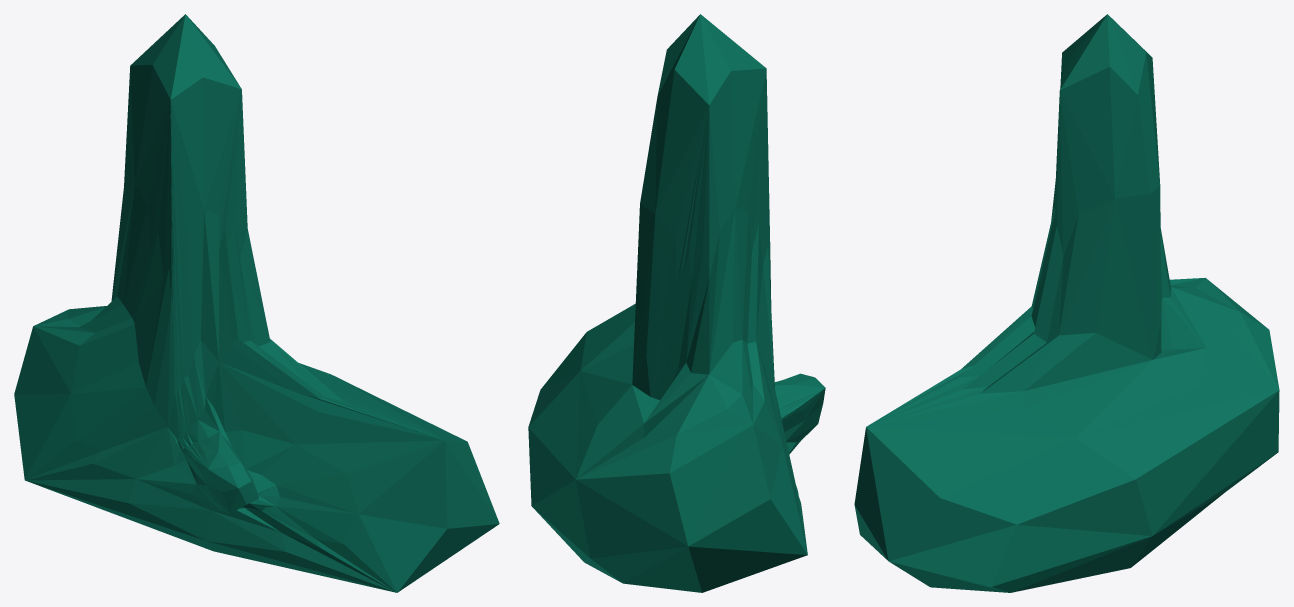
3 renders of one model, left to right at view 1: azimuth 30°, elevation 25°; view 2: azimuth 150°, elevation 25°; view 3: azimuth 270°, elevation 25°, orthographic. The views are drawn at different scales.
Parts seen in each view (by area): view 1: 682_Cube.2739; view 2: 682_Cube.2739; view 3: 682_Cube.2739.
Boxes of the visible parts, x1,y1,x2,y2 form: 682_Cube.2739: (14, 14, 499, 592); 682_Cube.2739: (528, 14, 825, 592); 682_Cube.2739: (854, 14, 1279, 592).
Bounding box in the file's own units: 9.34 × 13.51 × 10.23.
